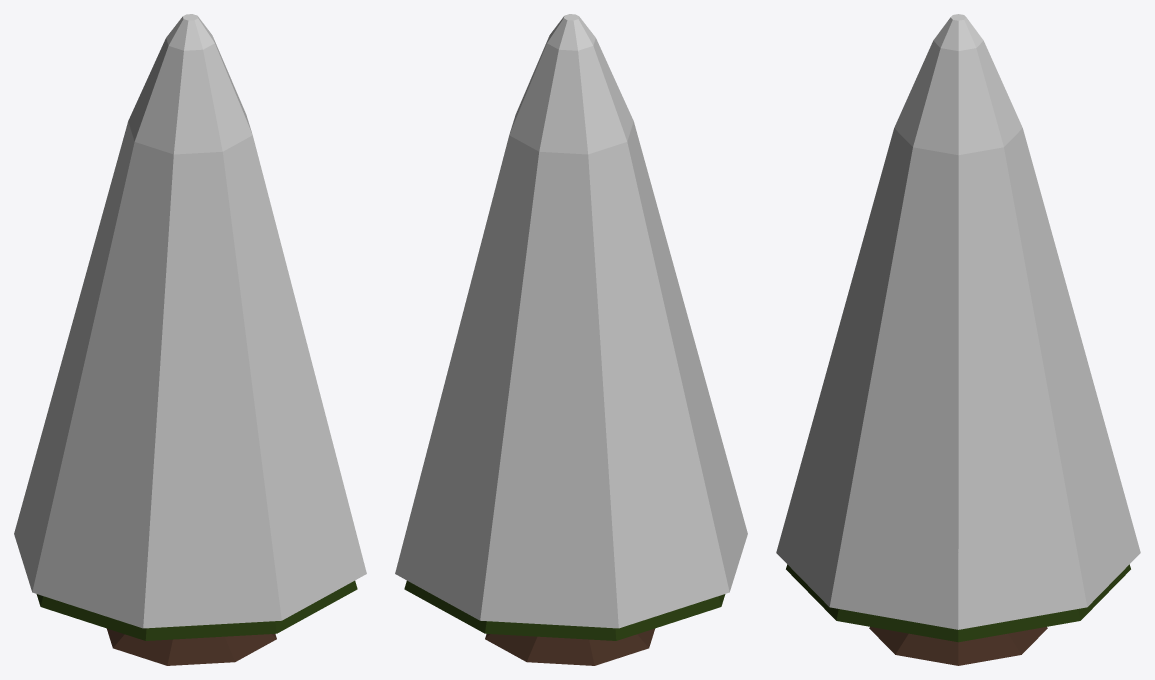
File: SnowPineTree001.fbx
The picture shows the model from 3 angles, left to right: view 1: azimuth 30°, elevation 25°; view 2: azimuth 150°, elevation 25°; view 3: azimuth 270°, elevation 25°; orthographic projection.
Visible parts, largest first — view 1: Cylinder.007; view 2: Cylinder.007; view 3: Cylinder.007.
Part boxes in pixels (x1,y1,x2,y2): Cylinder.007: (14,14,366,665); Cylinder.007: (395,14,747,665); Cylinder.007: (776,14,1140,665).
Bounding box in the file's own units: 874 × 1615 × 874.
